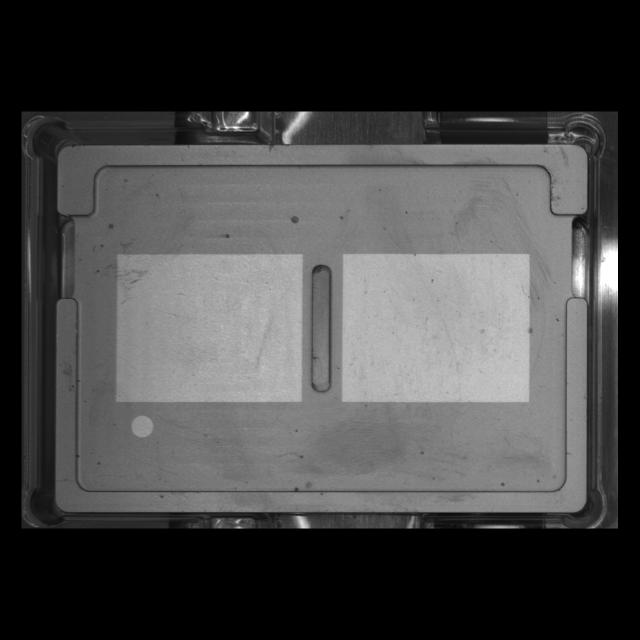door: (46, 135, 600, 228)
point: (122, 406, 162, 446)
